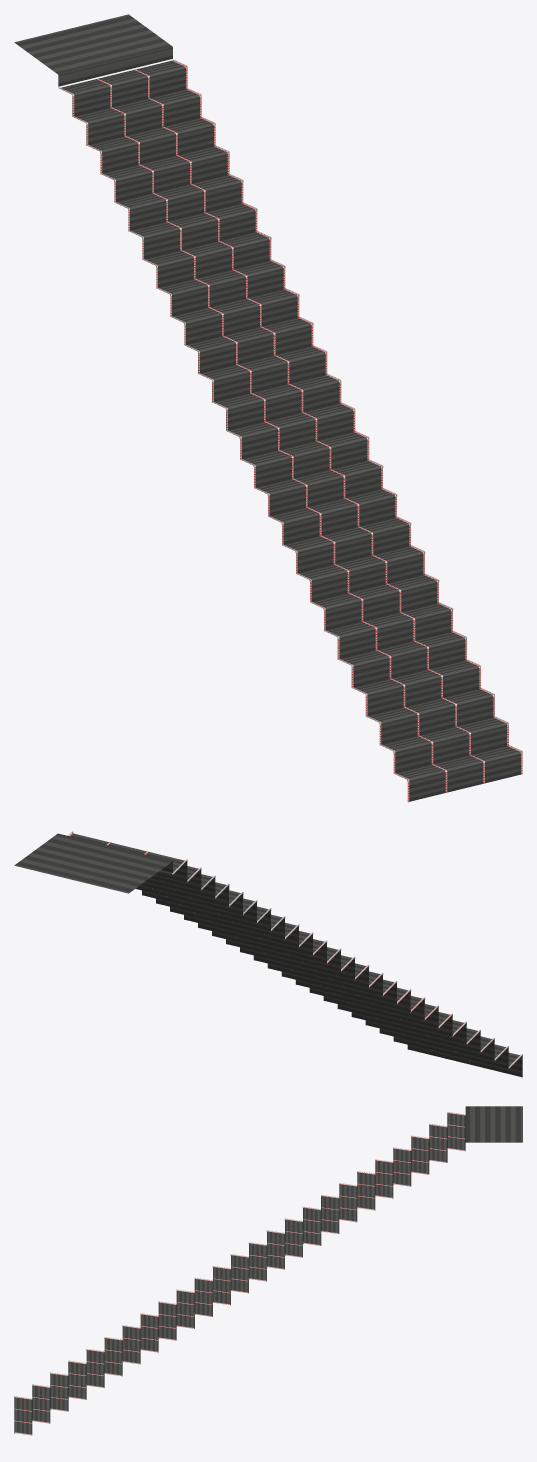
Rendered from stair.fbx.
3 renders of one model, top to bottom at view 1: azimuth 30°, elevation 25°; view 2: azimuth 150°, elevation 25°; view 3: azimuth 270°, elevation 25°, orthographic. The views are drawn at different scales.
Visible parts, largest first — view 1: Step, Start Plane; view 2: Step, Start Plane; view 3: Step, Start Plane.
Boxes of the visible parts, x1=… form: Step: x1=58, y1=59, x2=522, y2=802; Start Plane: x1=14, y1=14, x2=172, y2=86; Step: x1=68, y1=831, x2=522, y2=1077; Start Plane: x1=14, y1=833, x2=172, y2=893; Step: x1=14, y1=1112, x2=465, y2=1435; Start Plane: x1=465, y1=1106, x2=522, y2=1142.
Size of the model in its own units: 13546 by 53004 by 80158.
